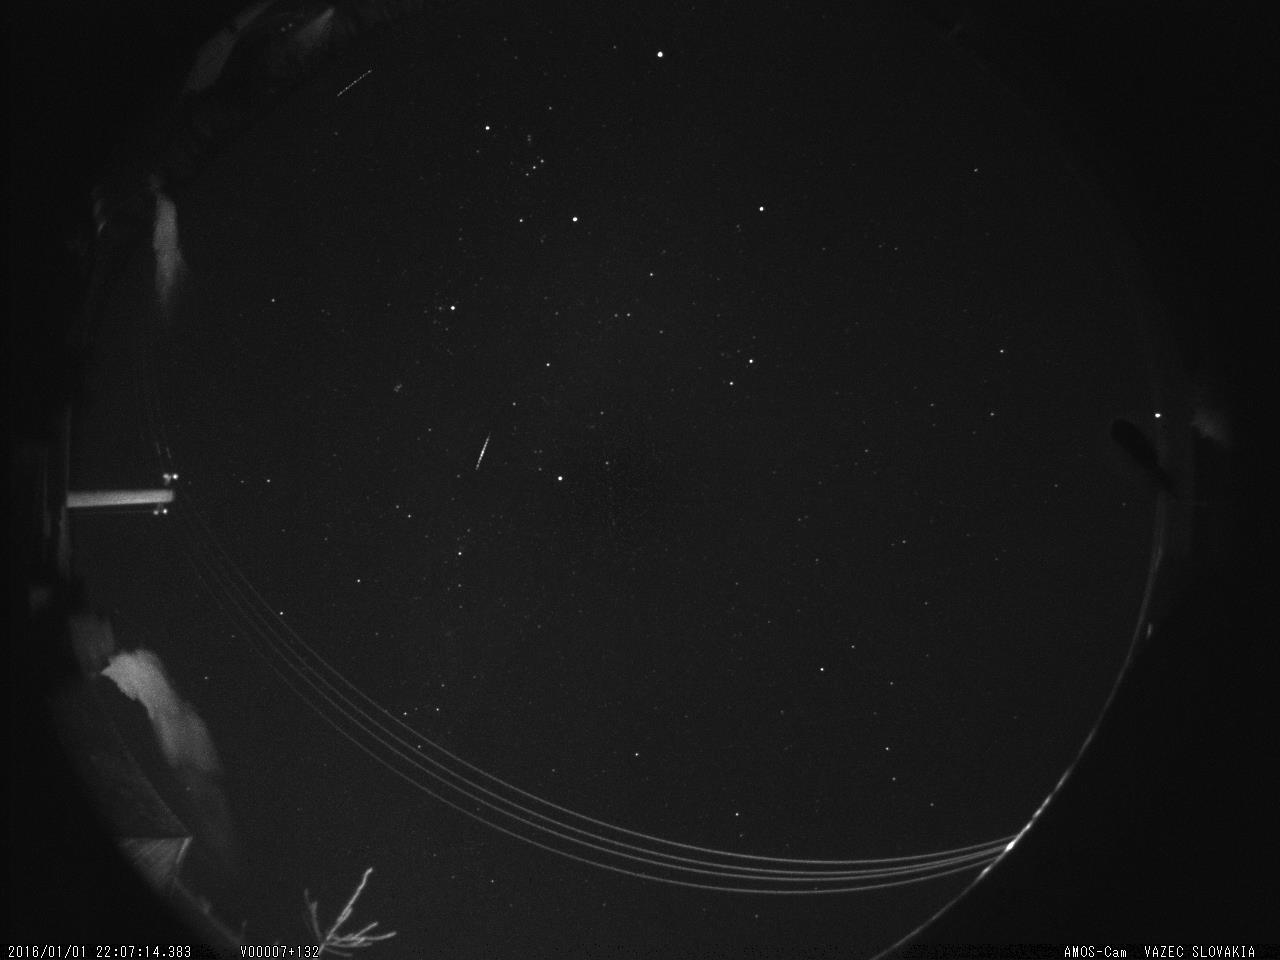meteor: (469, 424, 500, 476)
